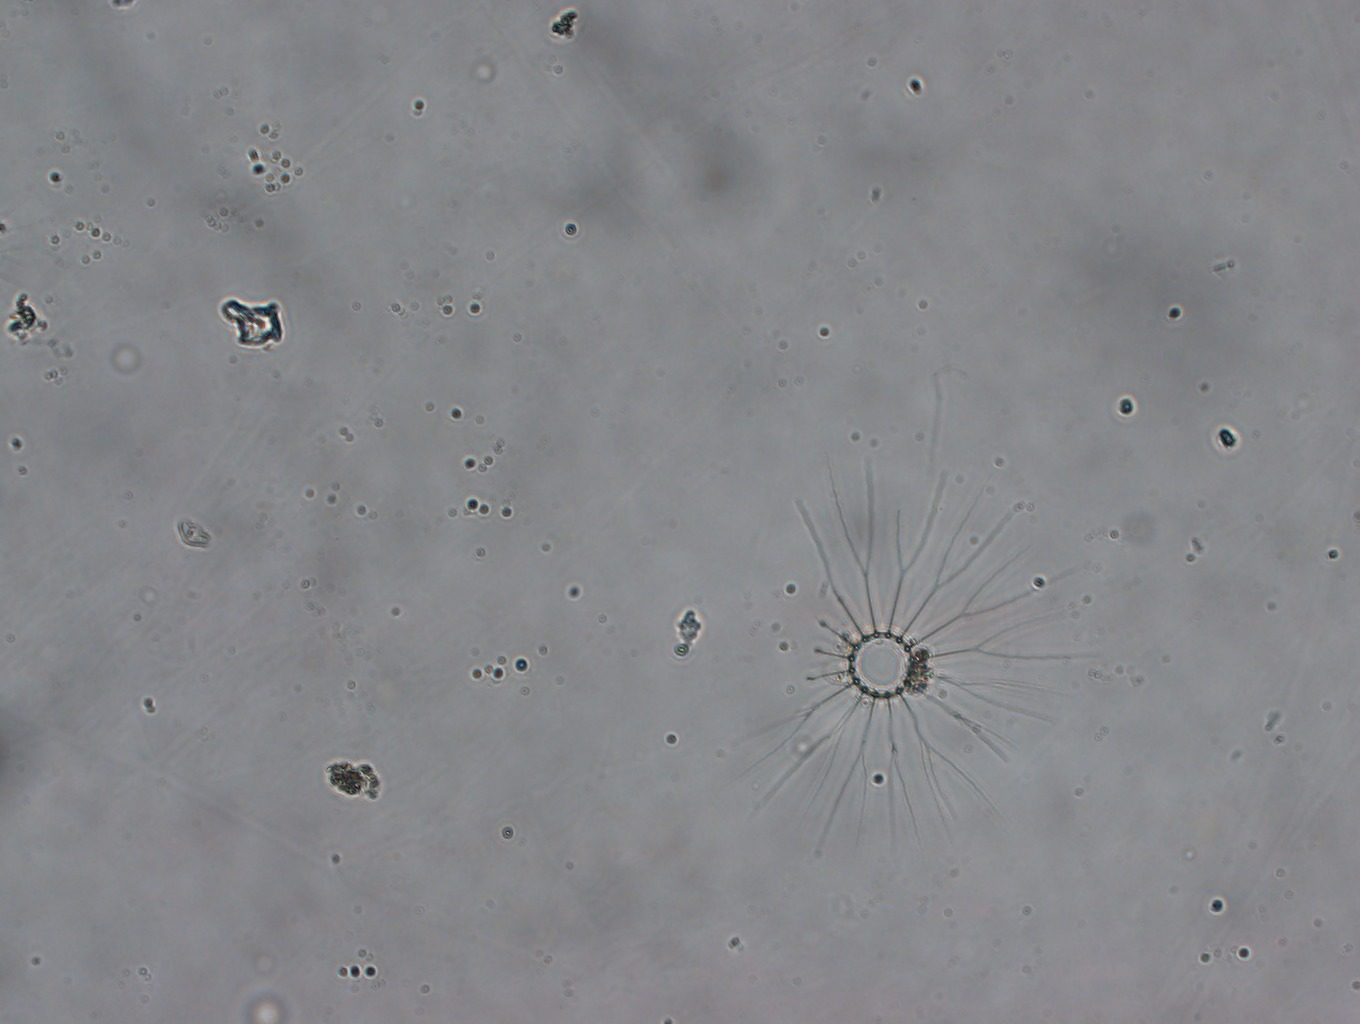bacteriastrum: (707, 452, 1117, 862)
